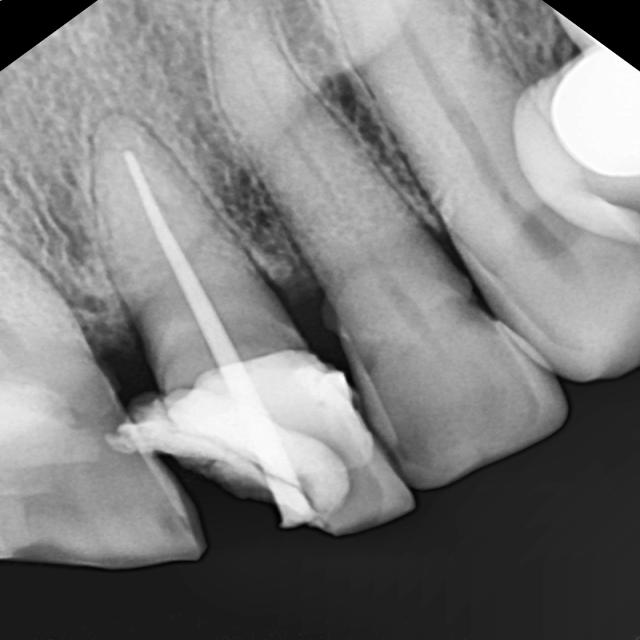RCT: (108, 144, 272, 402)
